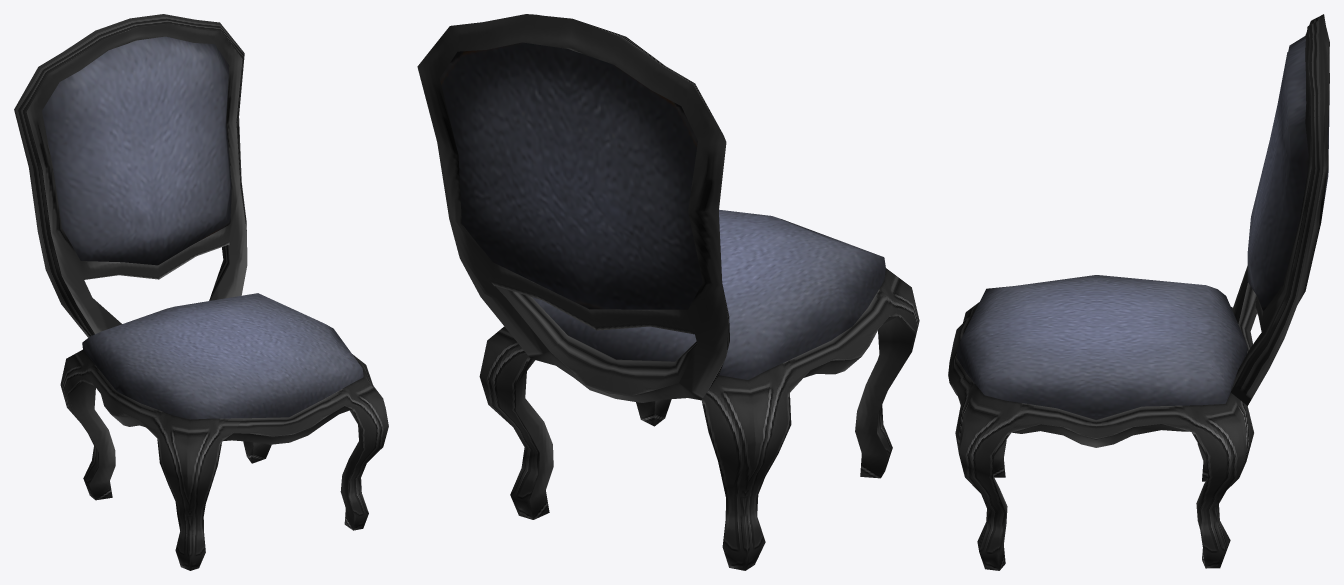
The model's file is GothicChair_HD.fbx.
3 renders of one model, left to right at view 1: azimuth 30°, elevation 25°; view 2: azimuth 150°, elevation 25°; view 3: azimuth 270°, elevation 25°, orthographic. The views are drawn at different scales.
Visible parts, largest first — view 1: GothicChair; view 2: GothicChair; view 3: GothicChair.
Part boxes in pixels (<box>): GothicChair: <box>14,14,388,570</box>; GothicChair: <box>417,14,919,570</box>; GothicChair: <box>948,14,1329,570</box>.
Bounding box in the file's own units: 0.5681 × 0.9806 × 0.6969.
